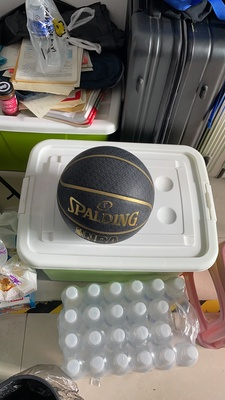ball: (57, 146, 156, 245)
